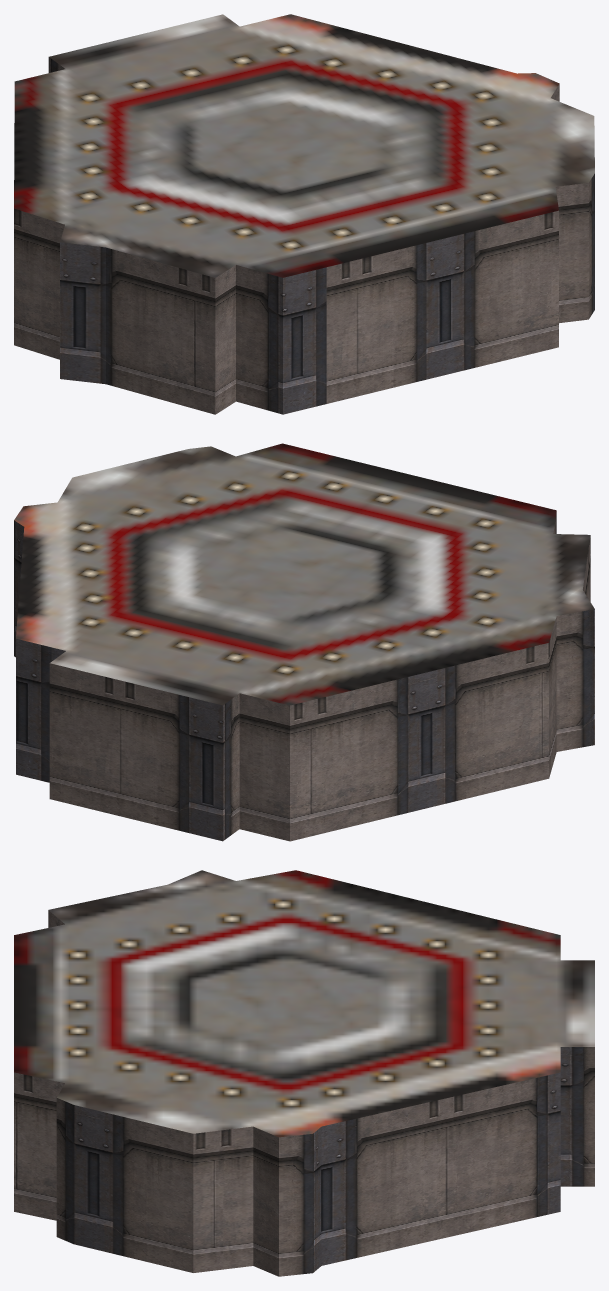
The model's file is bsealed_hard_21.glb.
3 views of the same model, one above another, from view 1: azimuth 30°, elevation 25°; view 2: azimuth 150°, elevation 25°; view 3: azimuth 270°, elevation 25° (orthographic). The views are drawn at different scales.
Parts seen in each view (by area): view 1: buildings/saxarba/bsealed_hard/bsealed_hard_21; view 2: buildings/saxarba/bsealed_hard/bsealed_hard_21; view 3: buildings/saxarba/bsealed_hard/bsealed_hard_21.
Boxes of the visible parts, x1,y1,x2,y2 form: buildings/saxarba/bsealed_hard/bsealed_hard_21: (14,14,594,414); buildings/saxarba/bsealed_hard/bsealed_hard_21: (14,443,594,841); buildings/saxarba/bsealed_hard/bsealed_hard_21: (14,870,594,1276).
Size of the model in its own units: 74 by 18 by 68.
